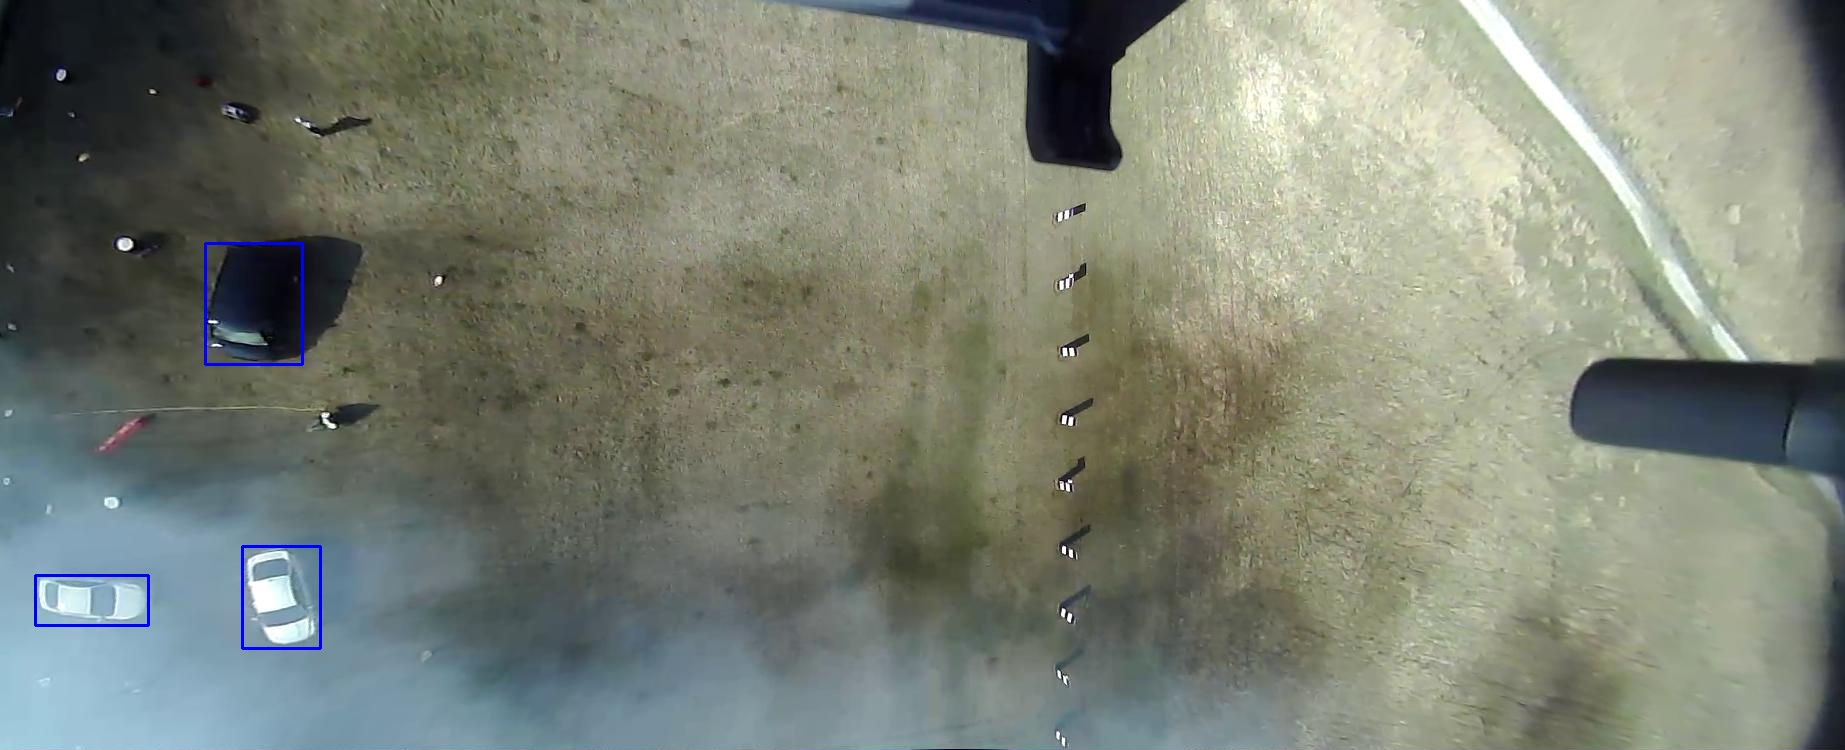vehicle: (244, 205, 364, 301), (546, 243, 648, 320), (575, 35, 625, 148)
